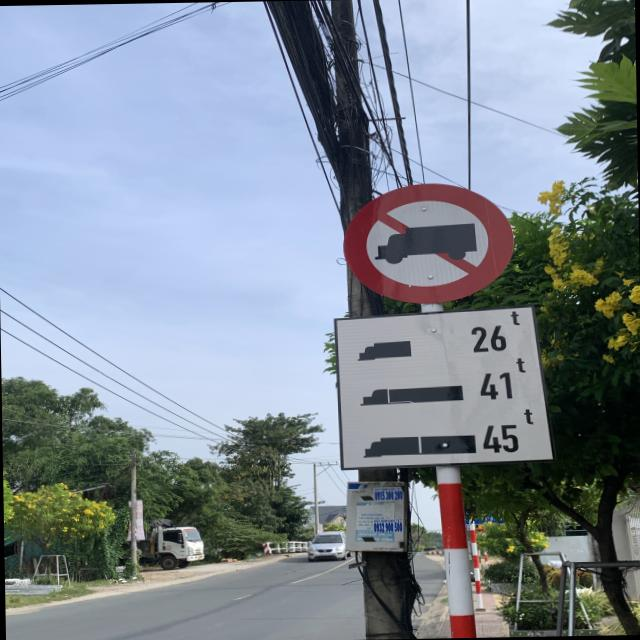Cam_Xe_Tai: (342, 180, 517, 304)
